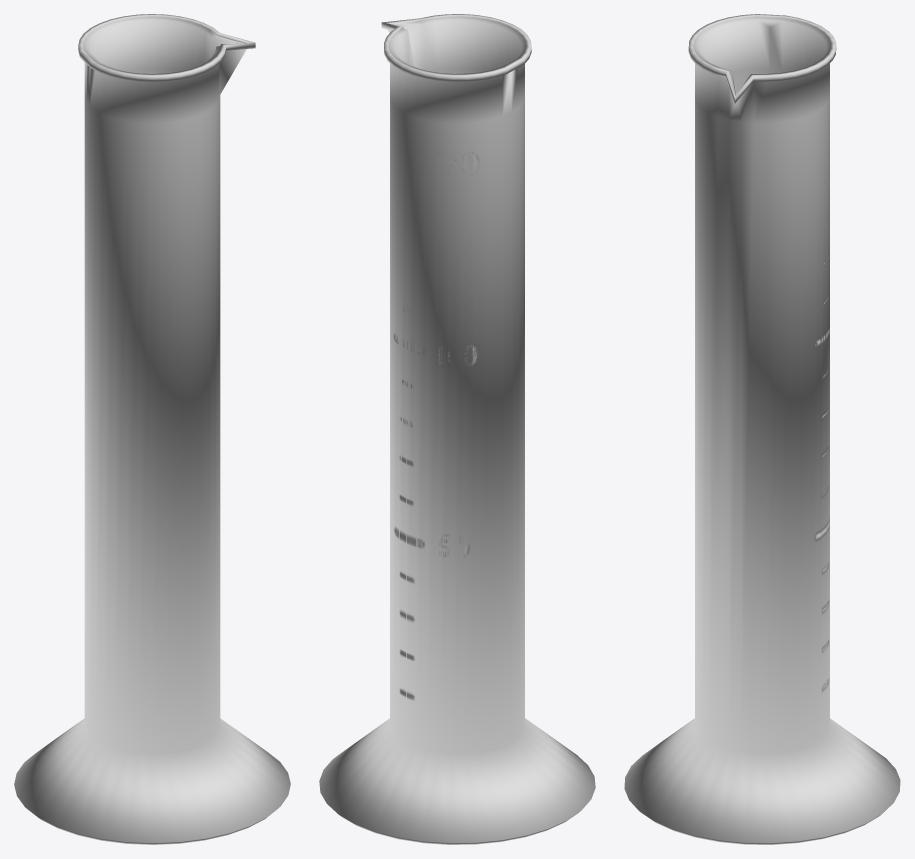
The model's file is graduated_cylinder.glb.
3 renders of one model, left to right at view 1: azimuth 30°, elevation 25°; view 2: azimuth 150°, elevation 25°; view 3: azimuth 270°, elevation 25°, orthographic.
Visible parts, largest first — view 1: Circle_0; view 2: Circle_0, 0-Photoroom-removebg-preview_1; view 3: Circle_0, 0-Photoroom-removebg-preview_1.
Part boxes in pixels (x1=…): Circle_0: x1=14, y1=14, x2=290, y2=844; Circle_0: x1=319, y1=14, x2=595, y2=844; 0-Photoroom-removebg-preview_1: x1=394, y1=152, x2=478, y2=699; Circle_0: x1=624, y1=14, x2=900, y2=844; 0-Photoroom-removebg-preview_1: x1=814, y1=144, x2=829, y2=691.
Size of the model in its own units: 4.67 by 13.86 by 4.67.
2 materials, 1 textured.
